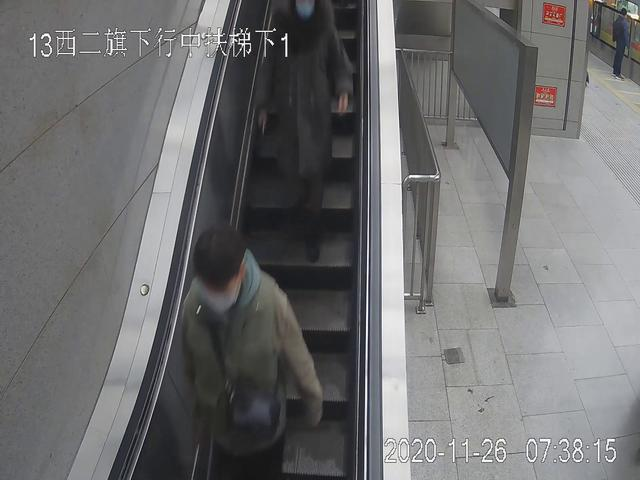person: (168, 227, 326, 480), (255, 1, 356, 265), (607, 5, 631, 80)
